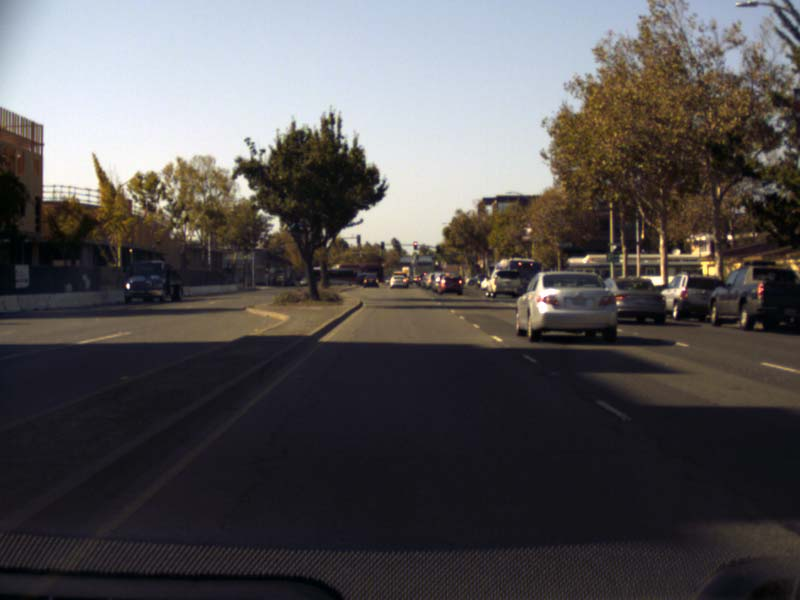Red: (413, 241, 417, 249)
